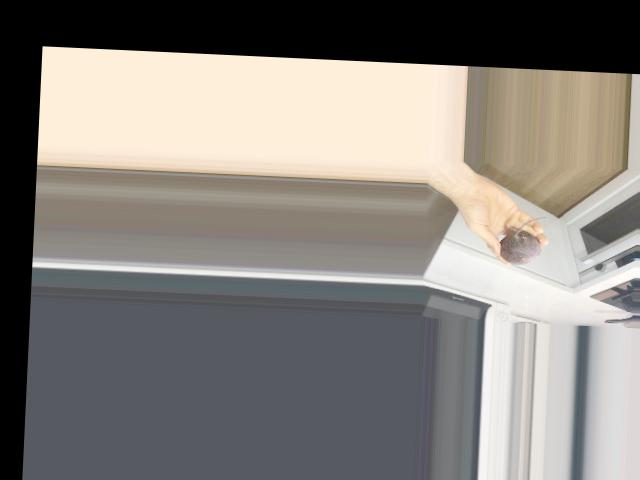beet: (499, 214, 547, 265)
